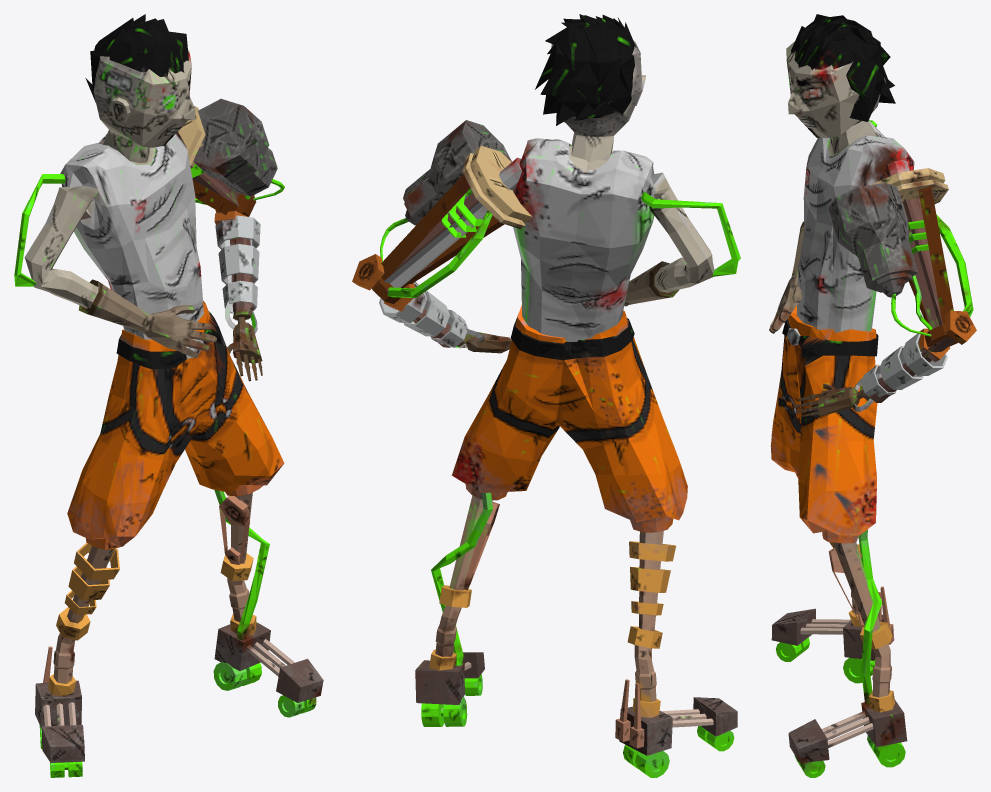
Rendered from CyborgFINALAnimation_000095.obj.
3 views of the same model, side by side, from view 1: azimuth 30°, elevation 25°; view 2: azimuth 150°, elevation 25°; view 3: azimuth 270°, elevation 25° (orthographic). The views are drawn at different scales.
Visible parts, largest first — view 1: CyborgMesh_Cube.002; view 2: CyborgMesh_Cube.002; view 3: CyborgMesh_Cube.002.
Part boxes in pixels (x1,y1,x2,y2): CyborgMesh_Cube.002: (14, 14, 323, 777); CyborgMesh_Cube.002: (352, 14, 740, 777); CyborgMesh_Cube.002: (769, 14, 976, 777).
Bounding box in the file's own units: 4.33 × 9.6 × 2.62.
